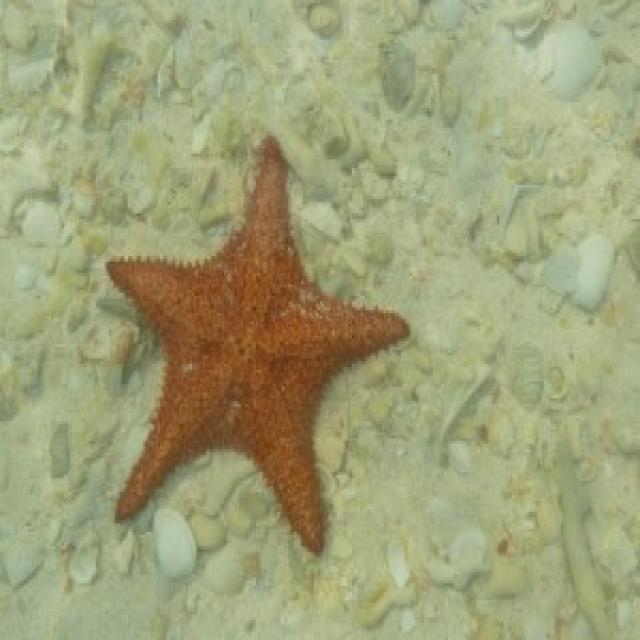Starfish: (89, 136, 418, 562)
